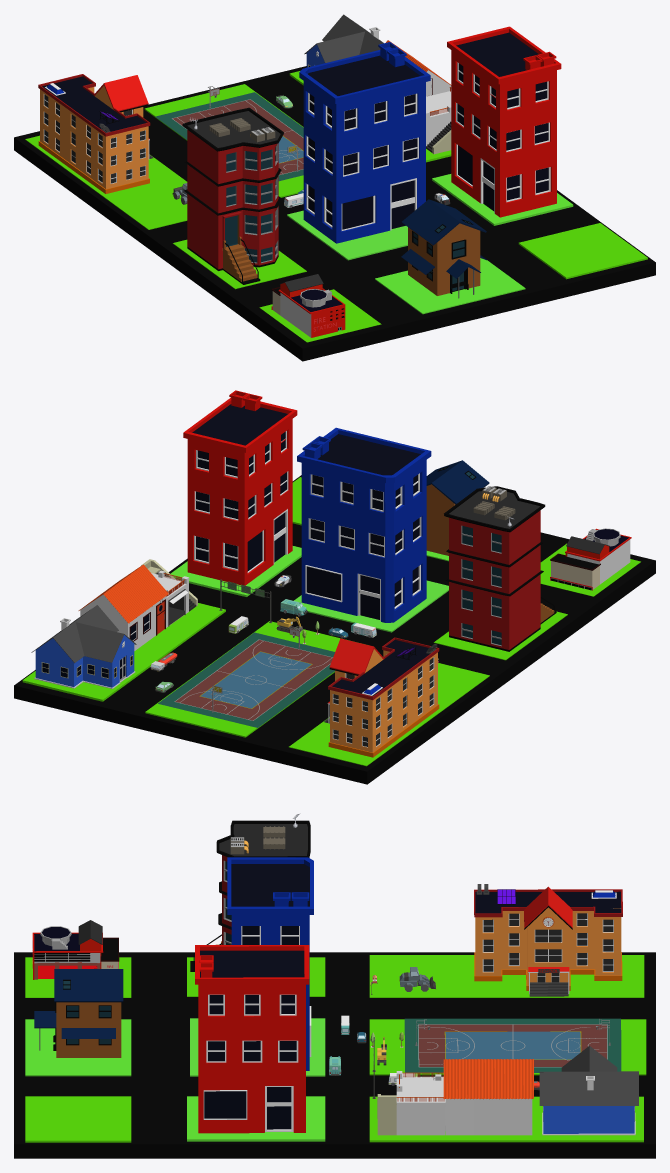
File: minicity.glb
3 views of the same model, one above another, from view 1: azimuth 30°, elevation 25°; view 2: azimuth 150°, elevation 25°; view 3: azimuth 270°, elevation 25° (orthographic). The views are drawn at different scales.
Visible parts, largest first — view 1: Cube, Blue_Building, Red Building, Corner_Building, Plane.223, House_4, Cube.006, Cube.003, Pole_basketball 15x28, Fire_station, Cube.001, Plane.010 (+6 smaller); view 2: Cube, Blue_Building, Red Building, Corner_Building, Plane.223, Pole_basketball 15x28, Plane.010, House_2, Fire_station, Cube.005, House_4, Cube.003 (+5 smaller); view 3: Cube, Red Building, Plane.223, House_2, Pole_basketball 15x28, Blue_Building, Cube.003, Plane.010, House_4, Cube.006, Corner_Building, Fire_station (+8 smaller).
Boxes of the visible parts, x1,y1,x2,y2 form: Cube: (14, 66, 655, 361); Blue_Building: (299, 42, 430, 243); Red Building: (447, 26, 561, 217); Corner_Building: (182, 107, 283, 284); Plane.223: (38, 74, 153, 193); House_4: (401, 199, 486, 298); Cube.006: (518, 223, 647, 279); Cube.003: (25, 135, 187, 229); Pole_basketball 15x28: (155, 86, 303, 181); Fire_station: (271, 274, 345, 337); Cube.001: (375, 258, 525, 314); Plane.010: (304, 14, 383, 67); Cube: (14, 475, 655, 784); Blue_Building: (297, 427, 431, 622); Red Building: (183, 390, 297, 585); Corner_Building: (444, 486, 556, 651); Plane.223: (324, 637, 439, 757); Pole_basketball 15x28: (158, 626, 334, 727); Plane.010: (31, 605, 136, 688); House_2: (78, 559, 197, 650); Fire_station: (550, 528, 631, 590); Cube.005: (22, 603, 225, 701); House_4: (426, 460, 489, 555); Cube.003: (289, 663, 489, 766); Cube: (14, 952, 655, 1158); Red Building: (195, 945, 309, 1133); Plane.223: (474, 884, 622, 996); House_2: (377, 1059, 533, 1135); Pole_basketball 15x28: (404, 1018, 621, 1072); Blue_Building: (227, 857, 313, 1070); Cube.003: (369, 955, 644, 997); Plane.010: (539, 1045, 638, 1135); House_4: (34, 969, 123, 1057); Cube.006: (25, 1096, 131, 1142); Corner_Building: (190, 813, 310, 971); Fire_station: (32, 920, 119, 979).
Size of the model in its own units: 3.93 by 1.79 by 5.56.
Materials: 142 (32 with a texture image).
